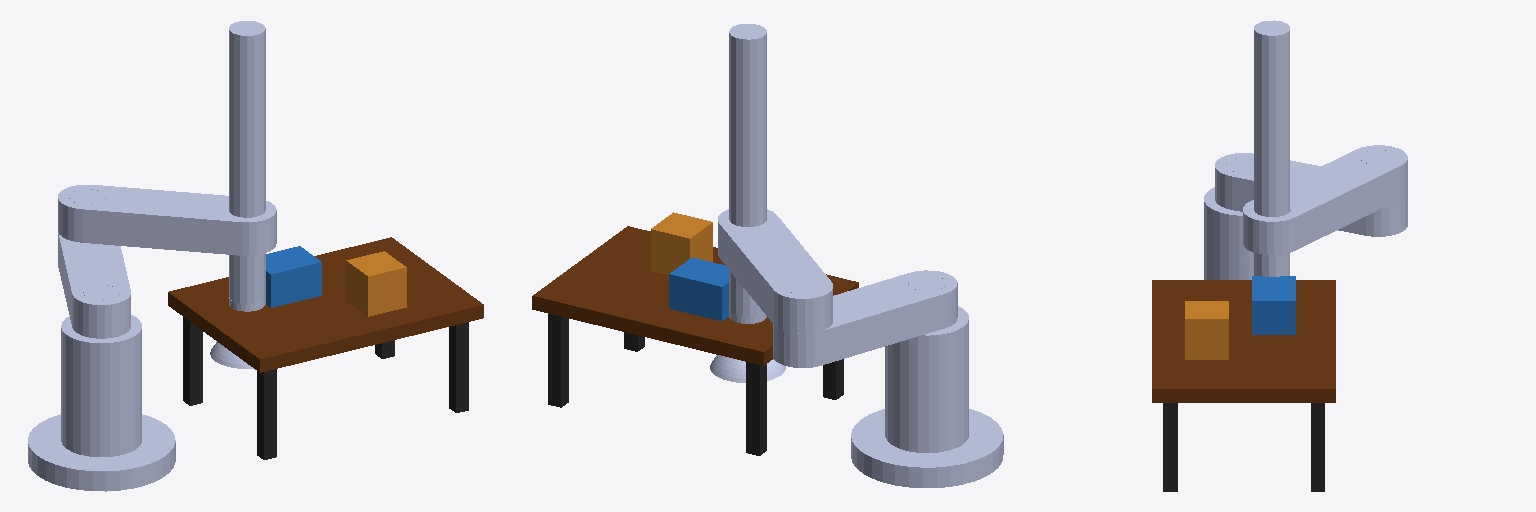
URDF robot description (Ensamblaje1):
<?xml version="1.0" encoding="utf-8"?>
<!-- URDF del robot Ensamblaje1 con Mesa Independiente de 4 Patas y Cajas -->
<robot name="Ensamblaje1">

  <!-- ==================== BASE DEL ROBOT ==================== -->
  <link name="baase">
    <inertial>
      <origin xyz="0 -9.99200722162641E-16 0.0835836782968658" rpy="0 0 0" />
      <mass value="2.65621658861017" />
      <inertia ixx="0.0155663062259803" ixy="7.84571457849969E-34" ixz="3.05521559154925E-18" iyy="0.0155663062259803" iyz="8.85843584594874E-17" izz="0.00718660917958159" />
    </inertial>
    <visual>
      <origin xyz="0 0 0" rpy="0 0 0" />
      <geometry>
        <mesh filename="package://robot_description/meshes/baase.STL" />
      </geometry>
      <material name="robot_color">
        <color rgba="0.792156862745098 0.819607843137255 0.933333333333333 1" />
      </material>
    </visual>
    <collision>
      <origin xyz="0 0 0" rpy="0 0 0" />
      <geometry>
        <mesh filename="package://robot_description/meshes/baase.STL" />
      </geometry>
    </collision>
  </link>

  <!-- ==================== ROTACIÓN 1 ==================== -->
  <link name="rot1">
    <inertial>
      <origin xyz="0.121288002243017 -0.00292197970260716 0.0296690863987195" rpy="0 0 0" />
      <mass value="1.05132741228718" />
      <inertia ixx="0.000968741777605741" ixy="8.51098705401121E-18" ixz="-0.000399196555067436" iyy="0.00620864004558682" iyz="3.24064416234824E-18" izz="0.00629429353114416" />
    </inertial>
    <visual>
      <origin xyz="0 0 0" rpy="0 0 0" />
      <geometry>
        <mesh filename="package://robot_description/meshes/rot1.STL" />
      </geometry>
      <material name="robot_color"/>
    </visual>
    <collision>
      <origin xyz="0 0 0" rpy="0 0 0" />
      <geometry>
        <mesh filename="package://robot_description/meshes/rot1.STL" />
      </geometry>
    </collision>
  </link>

  <joint name="rot1" type="continuous">
    <origin xyz="-0.00374100102465513 -0.00116774447773682 0.199999999999928" rpy="0 0 1.14398267981626" />
    <parent link="baase" />
    <child link="rot1" />
    <axis xyz="0 0 1" />
  </joint>

  <!-- ==================== ROTACIÓN 2 ==================== -->
  <link name="rot2">
    <inertial>
      <origin xyz="0.112061814783659 0.00333281197033952 0.0250000000000717" rpy="0 0 0" />
      <mass value="0.934977871437821" />
      <inertia ixx="0.000733971739040041" ixy="1.89735380184963E-19" ixz="7.2974123484672E-19" iyy="0.00541787065010435" iyz="-3.25797801511376E-19" izz="0.0057622682760453" />
    </inertial>
    <visual>
      <origin xyz="0 0 0" rpy="0 0 0" />
      <geometry>
        <mesh filename="package://robot_description/meshes/rot2.STL" />
      </geometry>
      <material name="robot_color"/>
    </visual>
    <collision>
      <origin xyz="0 0 0" rpy="0 0 0" />
      <geometry>
        <mesh filename="package://robot_description/meshes/rot2.STL" />
      </geometry>
    </collision>
  </link>

  <joint name="rot2" type="continuous">
    <origin xyz="0.199999999999999 0 0.0500000000000022" rpy="0 0 -1.85820160252122" />
    <parent link="rot1" />
    <child link="rot2" />
    <axis xyz="0 0 -1" />
  </joint>

  <!-- ==================== PRISMÁTICA (SUBE/BAJA) ==================== -->
  <link name="pris">
    <inertial>
      <origin xyz="0.00349664767441131 0.00176979401987554 0.0667401873011129" rpy="0 0 0" />
      <mass value="1.00399485275591" />
      <inertia ixx="0.0107968199035862" ixy="0" ixz="-2.96646160758765E-19" iyy="0.0107968199035862" iyz="-1.74955112067356E-18" izz="0.000376409714805212" />
    </inertial>
    <visual>
      <origin xyz="0 0 0" rpy="0 0 0" />
      <geometry>
        <mesh filename="package://robot_description/meshes/pris.STL" />
      </geometry>
      <material name="robot_color"/>
    </visual>
    <collision>
      <origin xyz="0 0 0" rpy="0 0 0" />
      <geometry>
        <mesh filename="package://robot_description/meshes/pris.STL" />
      </geometry>
    </collision>
  </link>

  <joint name="pris" type="prismatic">
    <origin xyz="0.22 0 0" rpy="0 0 0.54823" />
    <parent link="rot2" />
    <child link="pris" />
    <axis xyz="0 0 1" />
    <limit lower="-0.0913" upper="0.13892" effort="100.0" velocity="1.0" />
  </joint>

  <!-- =============================================================== -->
  <!--                ENTORNO: MESA CON 4 PATAS Y CAJAS                -->
  <!-- =============================================================== -->

  <!-- MATERIALES -->
  <material name="madera_oscura">
    <color rgba="0.45 0.25 0.10 1.0"/>
  </material>

  <material name="patas_metal">
    <color rgba="0.2 0.2 0.2 1.0"/>
  </material>

  <material name="caja_carton">
    <color rgba="0.85 0.55 0.20 1.0"/>
  </material>

  <material name="caja_azul">
    <color rgba="0.2 0.5 0.8 1.0"/>
  </material>

  <!-- 1. TABLERO DE LA MESA -->
  <link name="mesa_tablero">
    <visual>
      <origin xyz="0 0 0" rpy="0 0 0"/>
      <geometry>
        <!-- Superficie: 35cm x 25cm x 2cm de espesor -->
        <box size="0.35 0.25 0.02"/>
      </geometry>
      <material name="madera_oscura"/>
    </visual>
    <!-- Patas de la mesa modeladas en el visual -->
    <!-- Pata 1 (Frontal Izquierda) -->
    <visual>
      <origin xyz="0.15 0.10 -0.08" rpy="0 0 0"/>
      <geometry>
        <box size="0.02 0.02 0.14"/>
      </geometry>
      <material name="patas_metal"/>
    </visual>
    <!-- Pata 2 (Frontal Derecha) -->
    <visual>
      <origin xyz="0.15 -0.10 -0.08" rpy="0 0 0"/>
      <geometry>
        <box size="0.02 0.02 0.14"/>
      </geometry>
      <material name="patas_metal"/>
    </visual>
    <!-- Pata 3 (Trasera Izquierda) -->
    <visual>
      <origin xyz="-0.15 0.10 -0.08" rpy="0 0 0"/>
      <geometry>
        <box size="0.02 0.02 0.14"/>
      </geometry>
      <material name="patas_metal"/>
    </visual>
    <!-- Pata 4 (Trasera Derecha) -->
    <visual>
      <origin xyz="-0.15 -0.10 -0.08" rpy="0 0 0"/>
      <geometry>
        <box size="0.02 0.02 0.14"/>
      </geometry>
      <material name="patas_metal"/>
    </visual>
    <collision>
      <origin xyz="0 0 0" rpy="0 0 0"/>
      <geometry>
        <box size="0.35 0.25 0.02"/>
      </geometry>
    </collision>
  </link>

  <!-- Joint para fijar la mesa respecto a la base del robot (Ubicada al frente a X = 0.35m) -->
  <joint name="baase_to_mesa" type="fixed">
    <origin xyz="0.35 0 0.15" rpy="0 0 0"/>
    <parent link="baase"/>
    <child link="mesa_tablero"/>
  </joint>

  <!-- 2. CAJA 1 (Cartón - Ubicada sobre la mesa) -->
  <link name="caja1_link">
    <visual>
      <origin xyz="0 0 0" rpy="0 0 0"/>
      <geometry>
        <!-- Cubo de 6cm x 6cm x 6cm -->
        <box size="0.06 0.06 0.06"/>
      </geometry>
      <material name="caja_carton"/>
    </visual>
    <collision>
      <origin xyz="0 0 0" rpy="0 0 0"/>
      <geometry>
        <box size="0.06 0.06 0.06"/>
      </geometry>
    </collision>
  </link>

  <joint name="mesa_to_caja1" type="fixed">
    <origin xyz="0.05 -0.05 0.04" rpy="0 0 0"/>
    <parent link="mesa_tablero"/>
    <child link="caja1_link"/>
  </joint>

  <!-- 3. CAJA 2 (Azul - Ubicada sobre la mesa) -->
  <link name="caja2_link">
    <visual>
      <origin xyz="0 0 0" rpy="0 0 0"/>
      <geometry>
        <!-- Caja rectangular de 8cm x 6cm x 5cm -->
        <box size="0.08 0.06 0.05"/>
      </geometry>
      <material name="caja_azul"/>
    </visual>
    <collision>
      <origin xyz="0 0 0" rpy="0 0 0"/>
      <geometry>
        <box size="0.08 0.06 0.05"/>
      </geometry>
    </collision>
  </link>

  <joint name="mesa_to_caja2" type="fixed">
    <origin xyz="-0.04 0.04 0.035" rpy="0 0 0"/>
    <parent link="mesa_tablero"/>
    <child link="caja2_link"/>
  </joint>

</robot>

--- What the picture shows (computed from the rendered views, not written in the file) ---
The picture shows the robot from 3 angles, left to right: view 1: azimuth 30°, elevation 25°; view 2: azimuth 150°, elevation 25°; view 3: azimuth 270°, elevation 25°; orthographic projection.
Robot: Ensamblaje1 — 7 links, 6 joints (2 continuous, 1 prismatic, 3 fixed); root link baase; default pose: all joints at 0.
Visible links, largest first — view 1: mesa_tablero, baase, rot2, pris, rot1, caja1_link, caja2_link; view 2: mesa_tablero, baase, rot1, pris, rot2, caja2_link, caja1_link; view 3: mesa_tablero, rot2, pris, rot1, baase, caja1_link, caja2_link.
Link boxes in pixels (x1,y1,x2,y2): mesa_tablero: [168, 237, 483, 459]; baase: [28, 285, 175, 491]; rot2: [58, 185, 276, 255]; pris: [210, 21, 265, 368]; rot1: [58, 189, 130, 338]; caja1_link: [346, 251, 406, 316]; caja2_link: [266, 246, 321, 307]; mesa_tablero: [532, 226, 858, 455]; baase: [851, 275, 1003, 487]; rot1: [773, 270, 957, 367]; pris: [710, 24, 785, 382]; rot2: [718, 209, 832, 333]; caja2_link: [669, 257, 728, 320]; caja1_link: [651, 212, 712, 274]; mesa_tablero: [1152, 280, 1335, 491]; rot2: [1243, 145, 1407, 254]; pris: [1254, 20, 1289, 276]; rot1: [1215, 150, 1407, 236]; baase: [1204, 157, 1253, 279]; caja1_link: [1185, 301, 1228, 359]; caja2_link: [1252, 276, 1295, 334].
Size in the robot's own frame: 0.625 by 0.347 by 0.5711 metres.
Meshes: 4 distinct files referenced, 4 mesh visuals loaded (4 binary STL).
